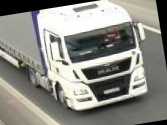truck: (0, 0, 151, 125)
